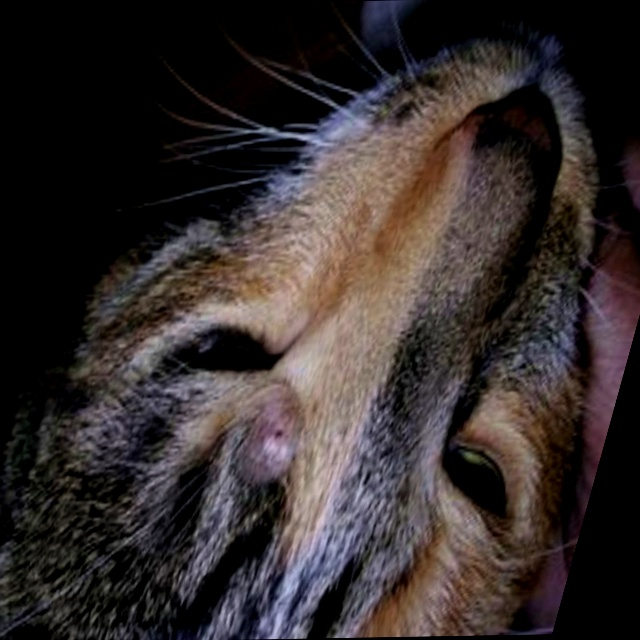lump_and_bump: (233, 398, 309, 479)
